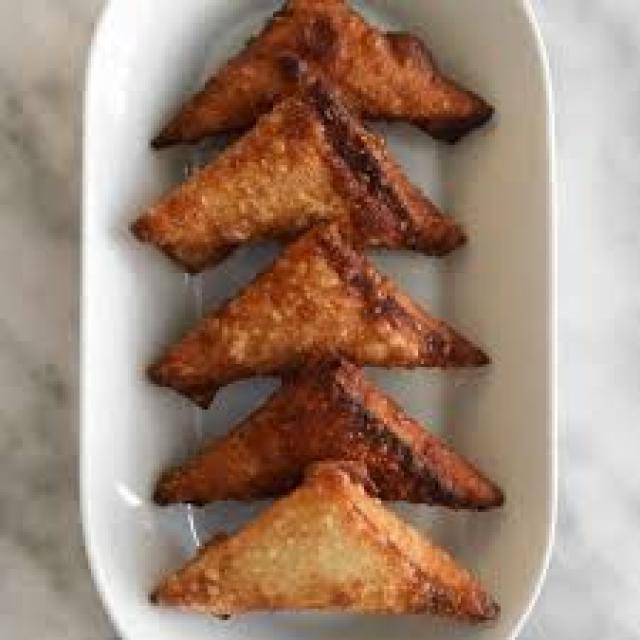SAMOSA: (134, 88, 461, 267), (154, 222, 486, 395), (156, 461, 495, 612), (156, 361, 498, 501), (156, 0, 489, 142)
